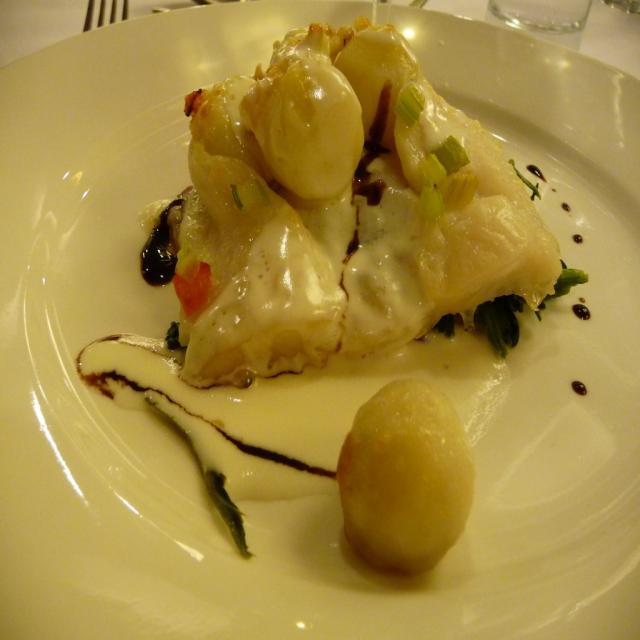Ice cream: (88, 2, 569, 554)
